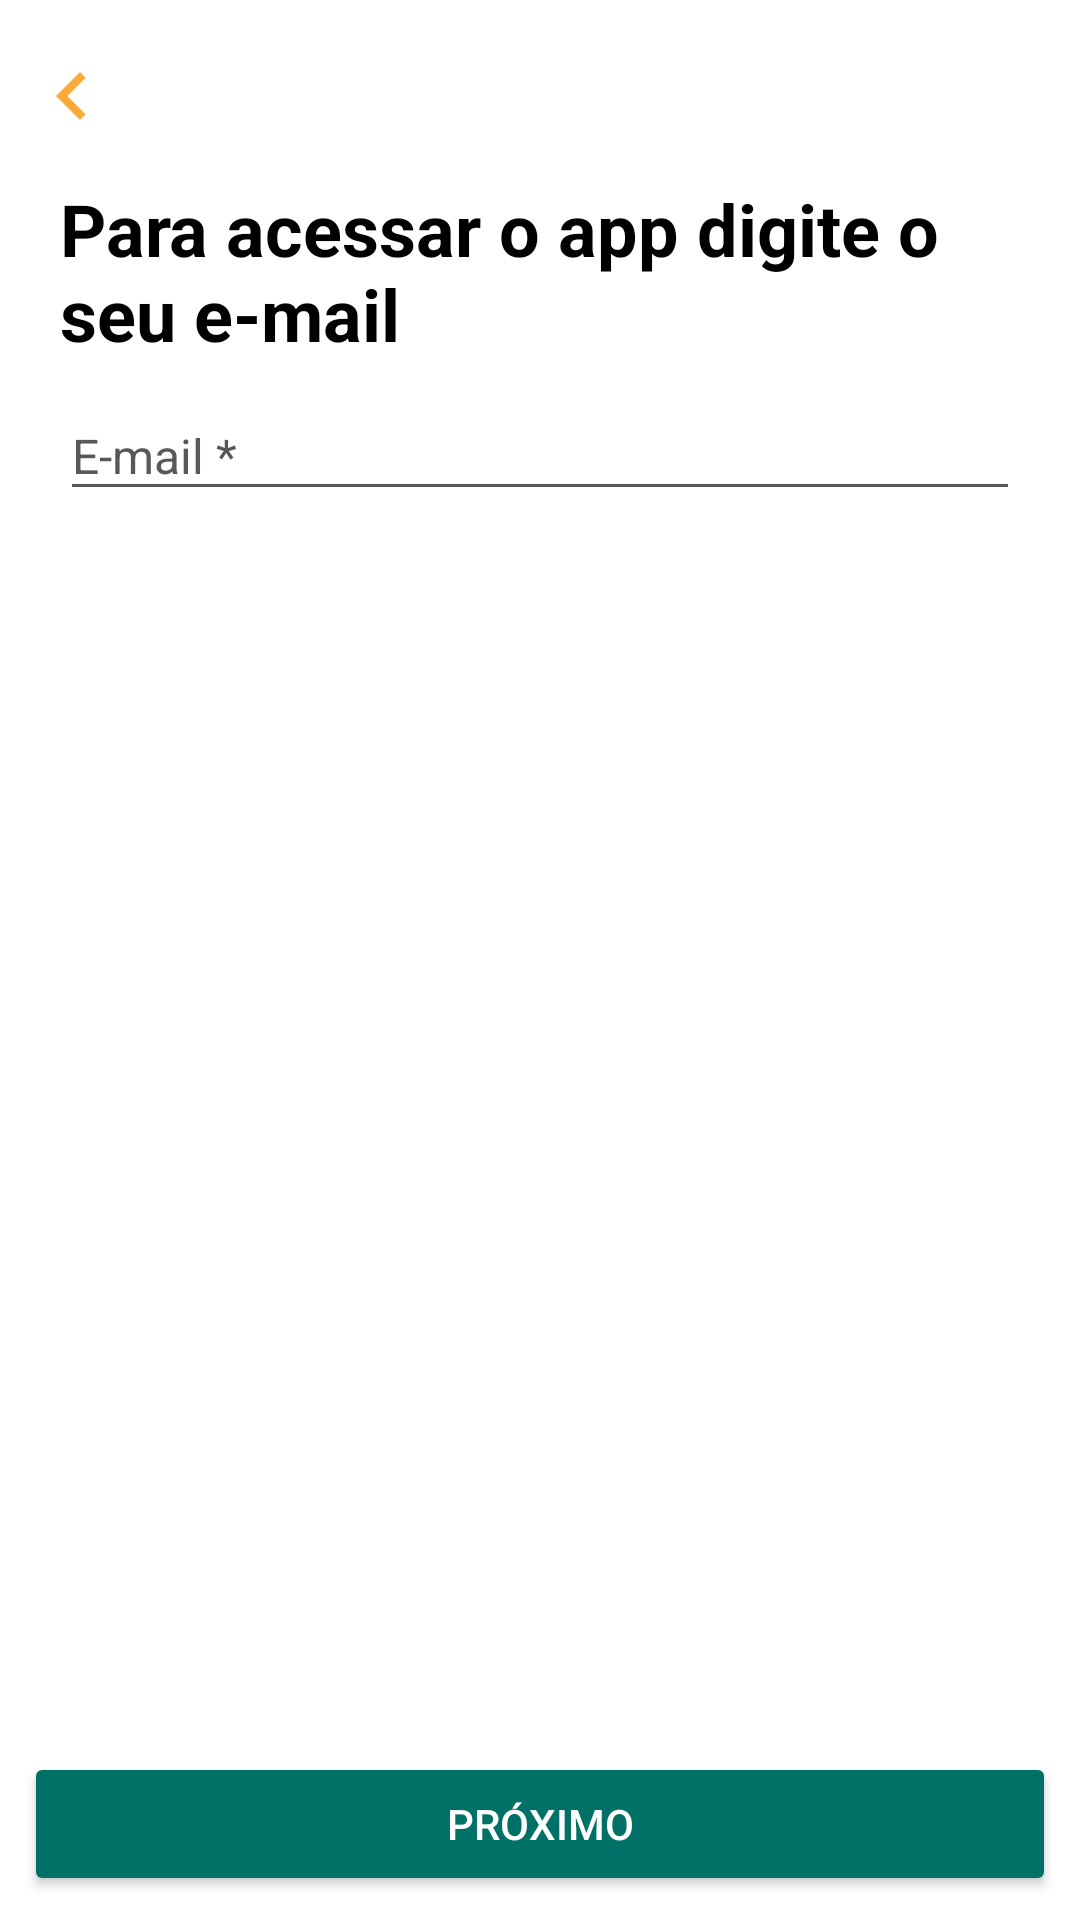

Icon click points for this 1080x1920 phone screenshot, format (x,y):
back: (71,96)
